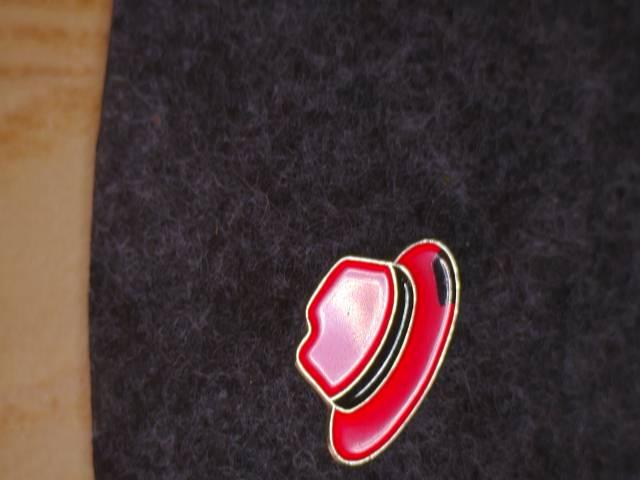Red-Hat: (267, 202, 500, 475)
Scratch: (415, 235, 483, 311)
